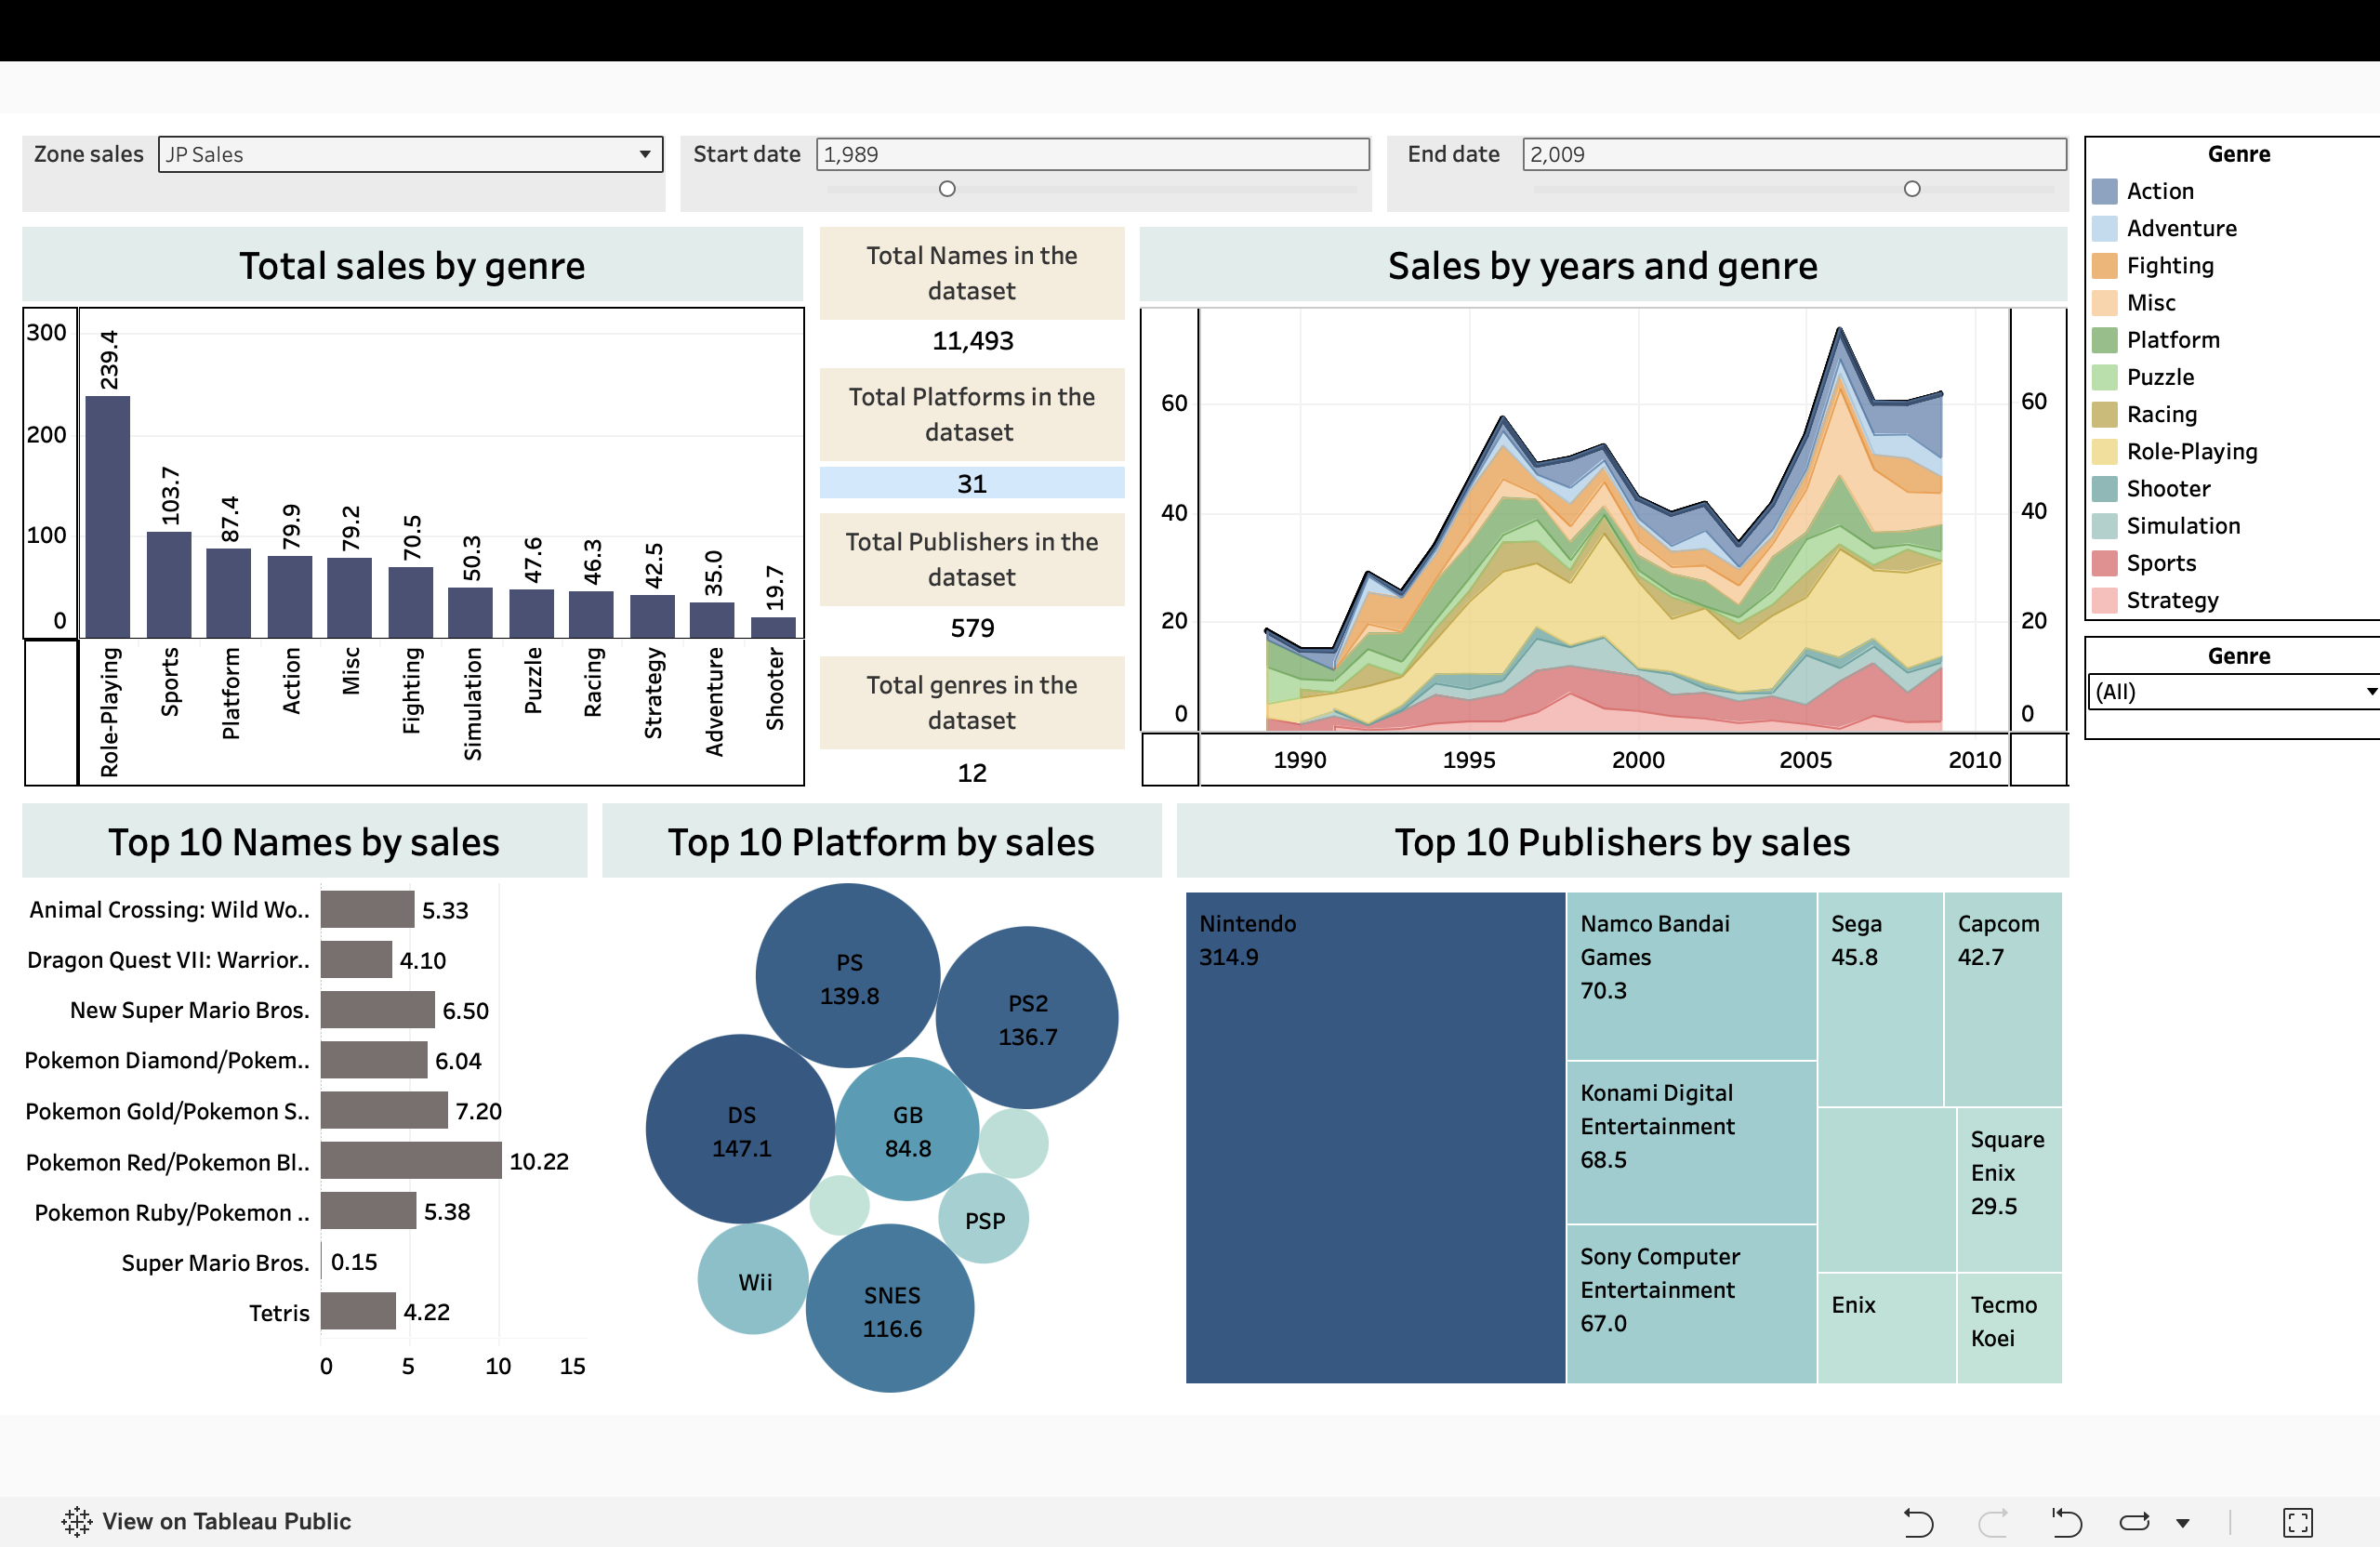

This screenshot's page, from the dashboard's own definition file:
{"tool":"tableau","page":{"name":"Global Video Game Sales Analytics Dashboard","canvas":[1300,700],"ordinal":0},"visuals":[{"type":"parameter","param":"[Parameters].[Parameter 2963771591692289]","box":[8,8,354,48.7]},{"type":"parameter","param":"[Parameters].[Parameter 2963771595165700]","box":[362,8,379.6,48.7]},{"type":"parameter","param":"[Parameters].[Parameter 2963771595337733]","box":[741.5,8,375.5,48.7]},{"type":"legend","title":"Sales by years and genre","param":"[federated.03yfix31b5uypm1bdwjye0vh6bp6].[none:Genre:nk]","box":[1117,8,175,268]},{"type":"worksheet","title":"Total sales by genre","mark":"Automatic","rows":["Calculation_2963771592220674"],"cols":["Genre"],"box":[8,56.7,429.2,309.8]},{"type":"worksheet","title":"Total Names in the dataset","mark":"Automatic","box":[437.2,56.7,171.4,76.3]},{"type":"worksheet","title":"Sales by years and genre","mark":"Automatic","rows":["Calculation_2963771592220674","Calculation_2963771592220674"],"cols":["Year"],"box":[608.6,56.7,508.4,309.8]},{"type":"worksheet","title":"Total Platforms in the dataset ","mark":"Automatic","box":[437.2,133,171.4,78.3]},{"type":"worksheet","title":"Total Publishers in the dataset ","mark":"Automatic","box":[437.2,211.3,171.4,76.7]},{"type":"filter","title":"Sales by years and genre","param":"[federated.03yfix31b5uypm1bdwjye0vh6bp6].[none:Genre:nk]","box":[1117,276,175,60]},{"type":"worksheet","title":"Total genres in the dataset","mark":"Automatic","box":[437.2,288,171.4,78.6]},{"type":"worksheet","title":"Top 10 Names by sales","mark":"Automatic","rows":["Name"],"cols":["Calculation_2963771592220674"],"box":[8,366.6,311.5,325.4]},{"type":"worksheet","title":"Top 10 Platform by sales","mark":"Circle","box":[319.5,366.6,309.1,325.4]},{"type":"worksheet","title":"Top 10 Publisher by sales","mark":"Automatic","box":[628.6,366.6,488.4,325.4]}]}

Visuals, with their boxes on the page's 1300x700 design canvas (x1, y1, x2, y2). These are canvas units, not pixel positions in the 2380x1547 screenshot, which may show the page scaled, cropped or inside an application window:
parameter: bbox=(8, 8, 362, 57)
parameter: bbox=(362, 8, 742, 57)
parameter: bbox=(742, 8, 1117, 57)
"Sales by years and genre" legend: bbox=(1117, 8, 1292, 276)
"Total sales by genre" worksheet: bbox=(8, 57, 437, 366)
"Total Names in the dataset" worksheet: bbox=(437, 57, 609, 133)
"Sales by years and genre" worksheet: bbox=(609, 57, 1117, 366)
"Total Platforms in the dataset " worksheet: bbox=(437, 133, 609, 211)
"Total Publishers in the dataset " worksheet: bbox=(437, 211, 609, 288)
"Sales by years and genre" filter: bbox=(1117, 276, 1292, 336)
"Total genres in the dataset" worksheet: bbox=(437, 288, 609, 367)
"Top 10 Names by sales" worksheet: bbox=(8, 367, 320, 692)
"Top 10 Platform by sales" worksheet (Circle marks): bbox=(320, 367, 629, 692)
"Top 10 Publisher by sales" worksheet: bbox=(629, 367, 1117, 692)
